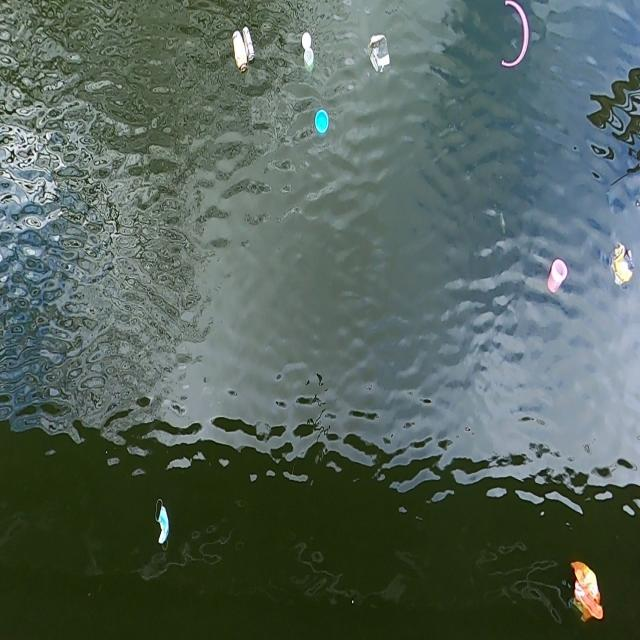Non plastique: (226, 19, 251, 84), (150, 495, 172, 561), (241, 22, 258, 73)
